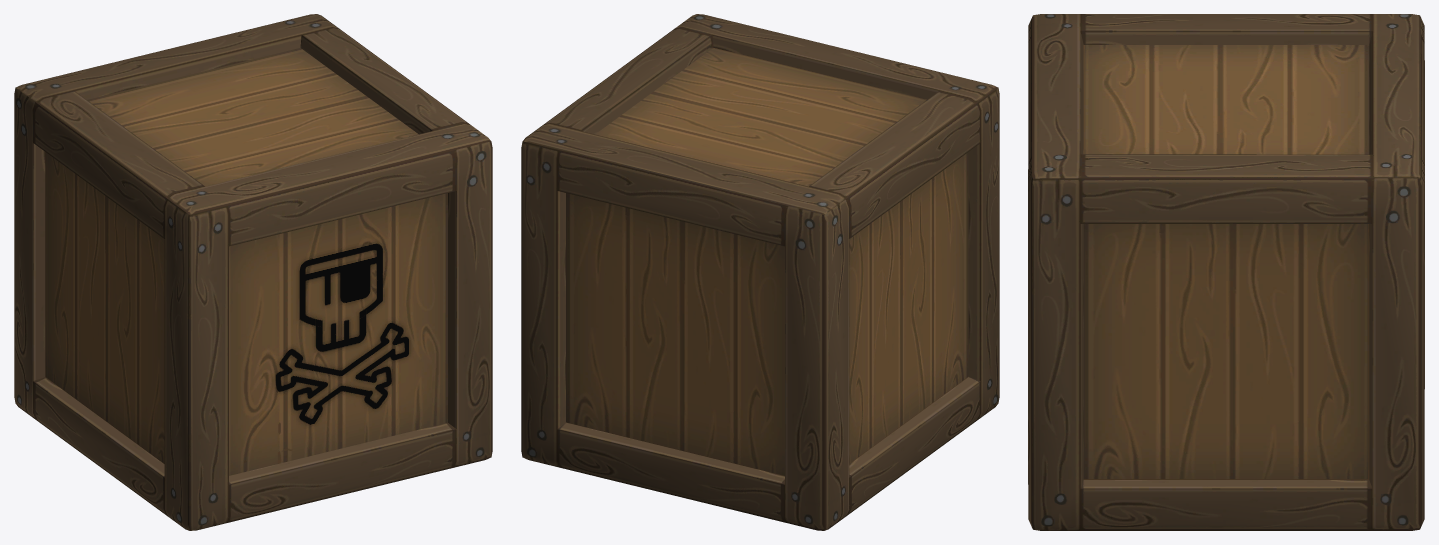
The model's file is pirate box.glb.
3 renders of one model, left to right at view 1: azimuth 30°, elevation 25°; view 2: azimuth 150°, elevation 25°; view 3: azimuth 270°, elevation 25°, orthographic. The views are drawn at different scales.
Visible parts, largest first — view 1: Quest_Pirate_BoxSquare; view 2: Quest_Pirate_BoxSquare; view 3: Quest_Pirate_BoxSquare.
Part boxes in pixels (box(x1,y1,x2,y2)): Quest_Pirate_BoxSquare: box(14, 14, 492, 530); Quest_Pirate_BoxSquare: box(521, 14, 999, 530); Quest_Pirate_BoxSquare: box(1028, 14, 1424, 530).
Size of the model in its own units: 1 by 1 by 1.
1 material, 1 textured.
